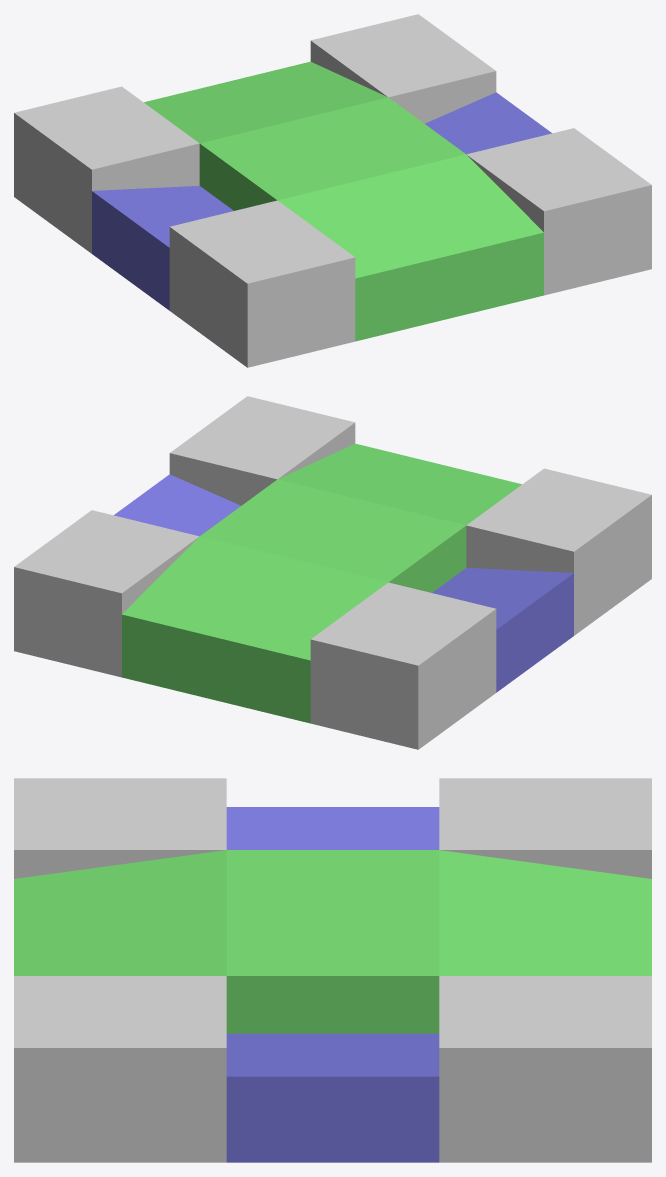
File: RoadDirtBridge.fbx
3 views of the same model, one above another, from view 1: azimuth 30°, elevation 25°; view 2: azimuth 150°, elevation 25°; view 3: azimuth 270°, elevation 25° (orthographic). The views are drawn at different scales.
Visible parts, largest first — view 1: RoadDirtBridge; view 2: RoadDirtBridge; view 3: RoadDirtBridge.
Part boxes in pixels (x1,y1,x2,y2): RoadDirtBridge: (14, 14, 651, 367); RoadDirtBridge: (14, 396, 651, 749); RoadDirtBridge: (14, 778, 651, 1162).
Bounding box in the file's own units: 200 × 200 × 39.76.
